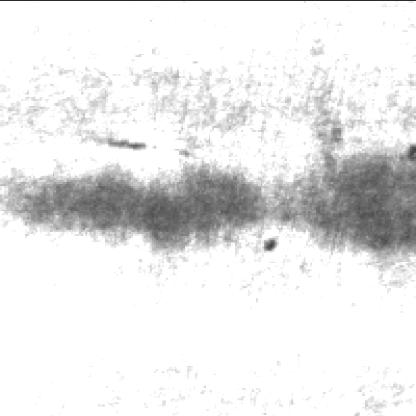patches: (2, 160, 262, 241), (294, 141, 414, 254)
